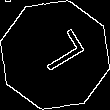L_SW: (26, 29, 84, 81)
